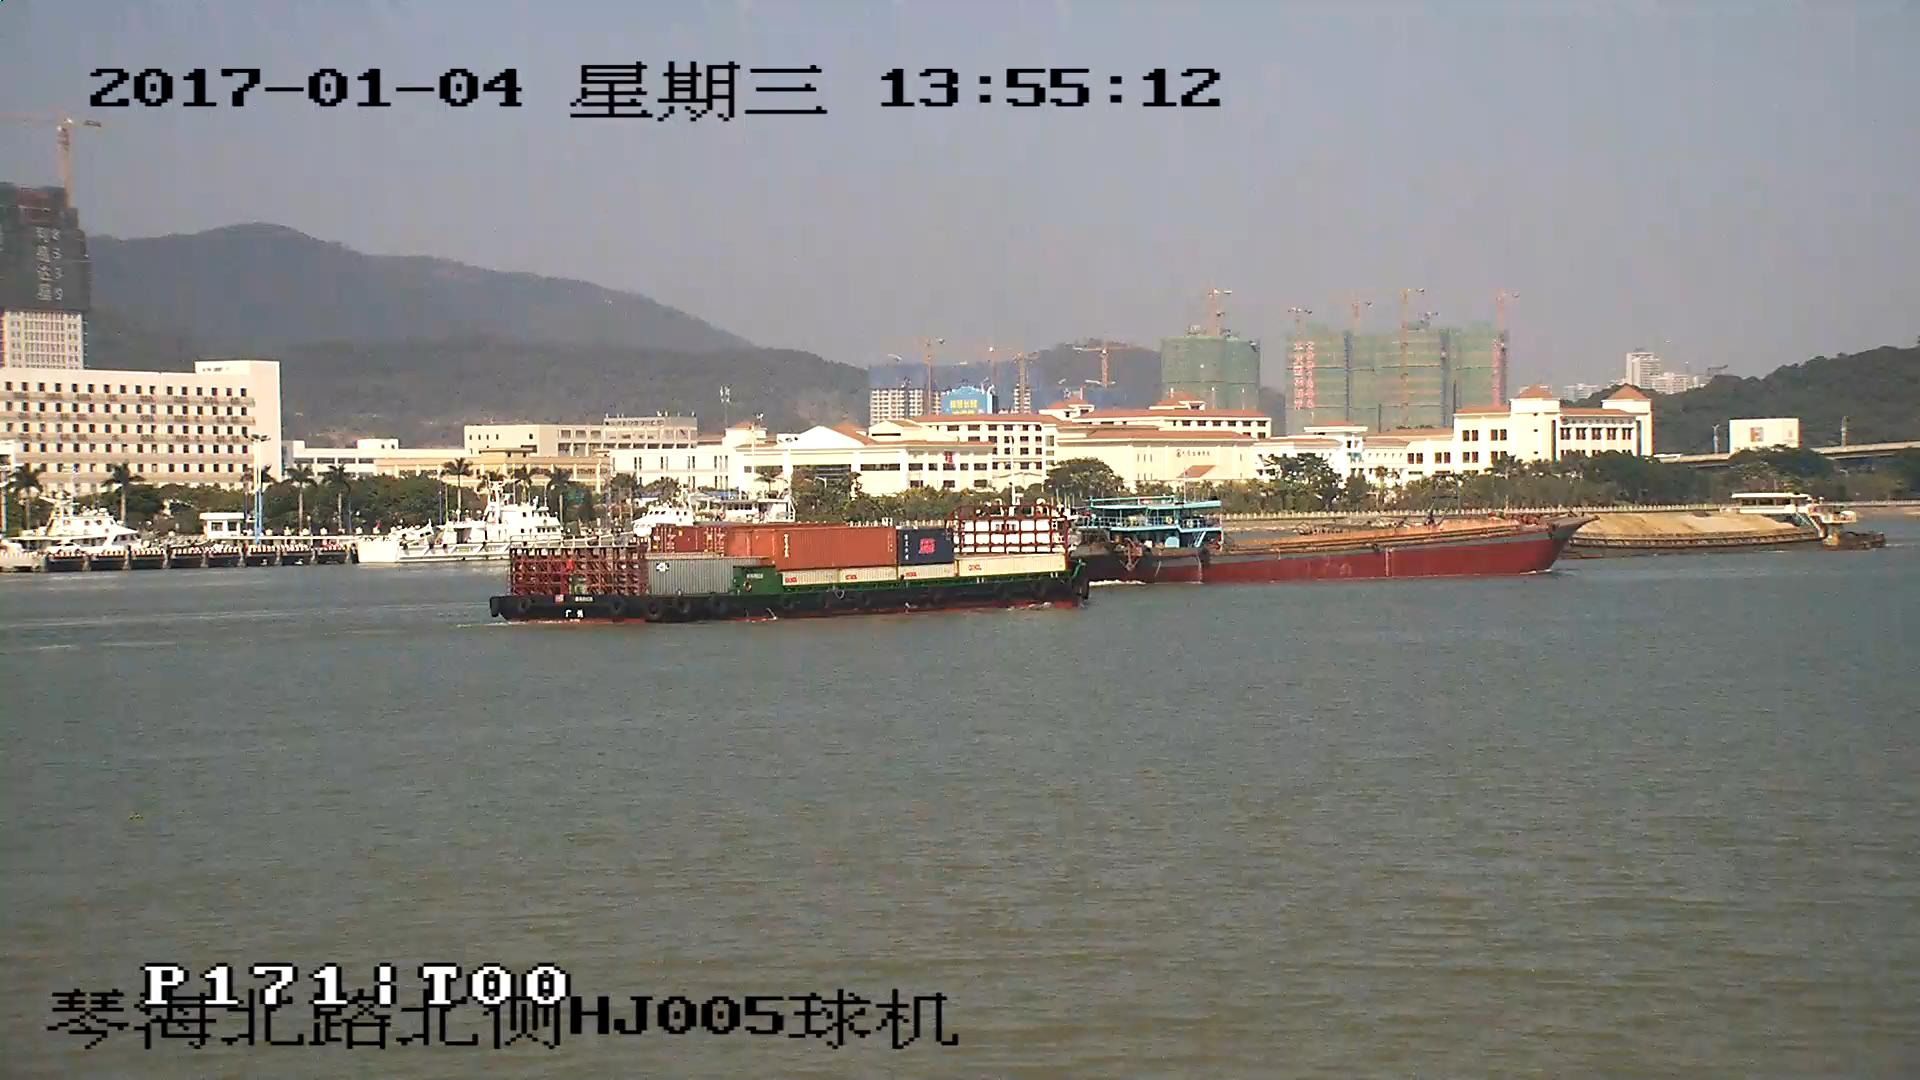bulk cargo carrier: (1087, 515, 1589, 586)
container ship: (492, 514, 1100, 625)
ore carrier: (1561, 491, 1879, 550)
